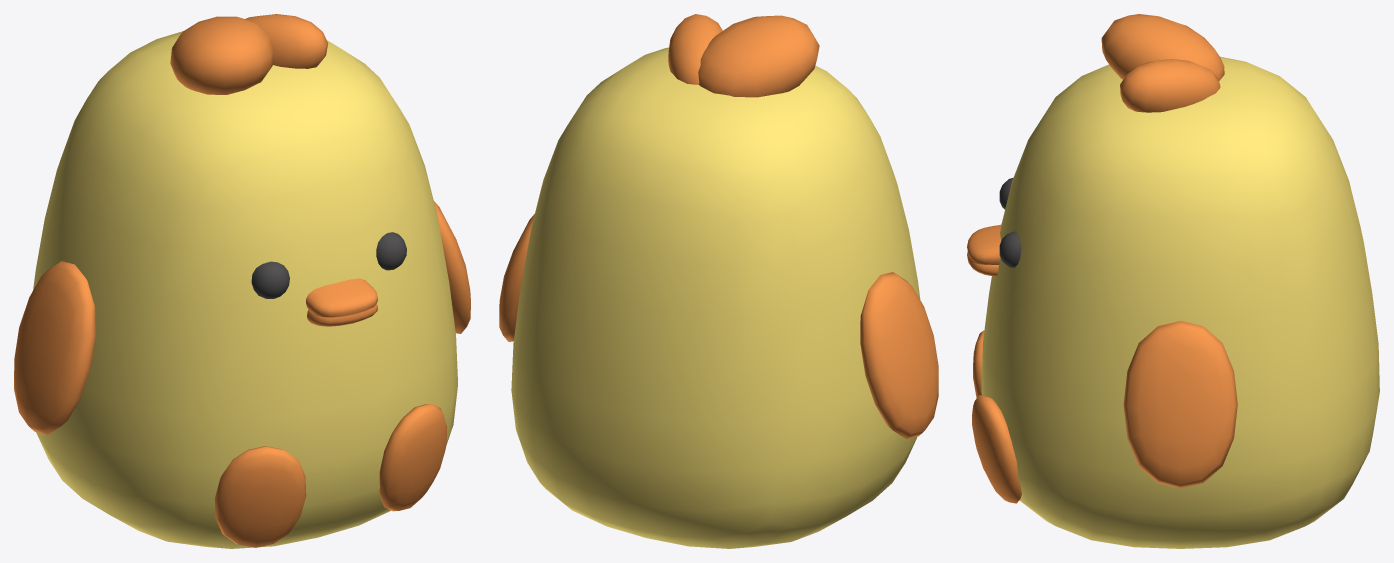
File: Doll_Chick.glb
3 views of the same model, side by side, from view 1: azimuth 30°, elevation 25°; view 2: azimuth 150°, elevation 25°; view 3: azimuth 270°, elevation 25° (orthographic). The views are drawn at different scales.
Parts seen in each view (by area): view 1: Chicken_Toy_1; view 2: Chicken_Toy_1; view 3: Chicken_Toy_1.
Part boxes in pixels (x1,y1,x2,y2): Chicken_Toy_1: (14, 14, 470, 548); Chicken_Toy_1: (499, 14, 938, 548); Chicken_Toy_1: (967, 14, 1379, 548).
Size of the model in its own units: 0.4693 by 0.5137 by 0.4098.
1 material, 1 textured.
